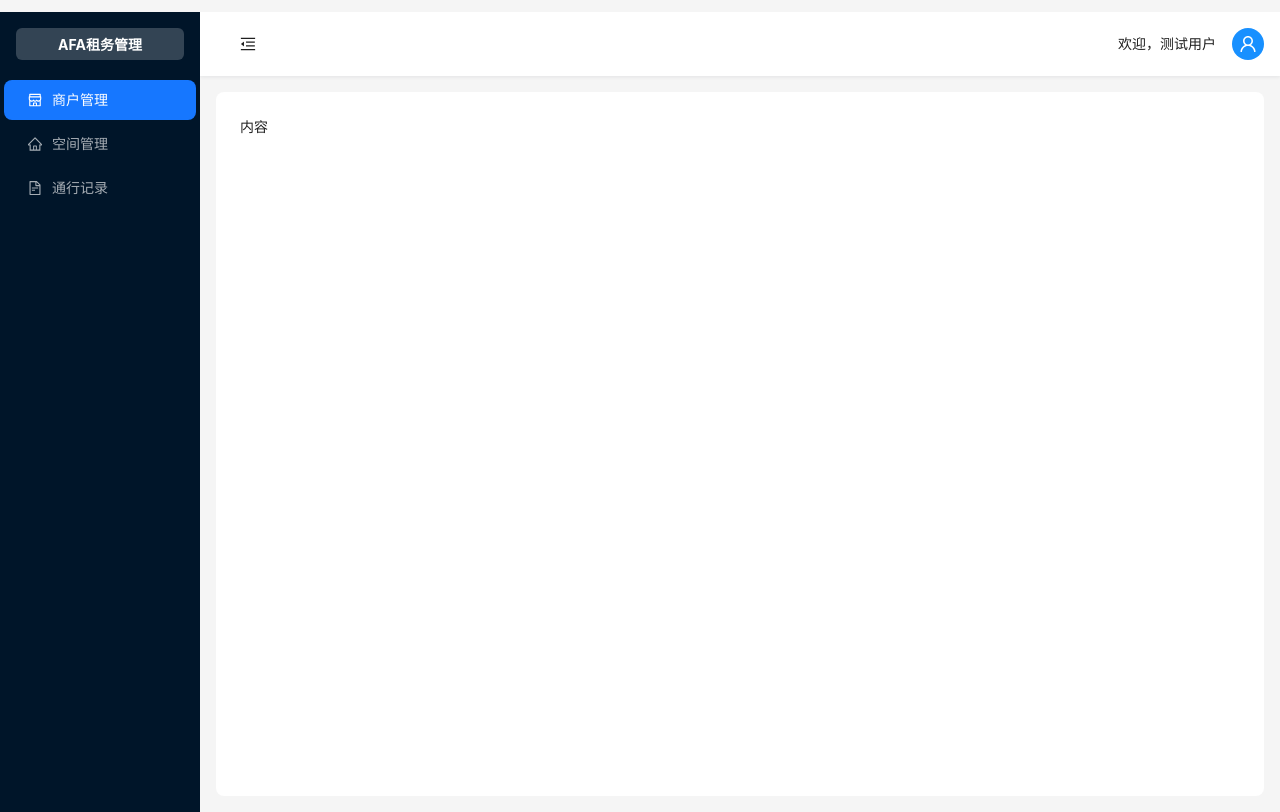
it: DashboardLayout › 侧边栏功能测试 › 应该在收起状态下显示简化的logo
expect the text "AFA租务管理" is shown: met, box left=16, top=28, right=184, bottom=60
Click the button: (248, 44) left=216, top=12, right=280, bottom=76
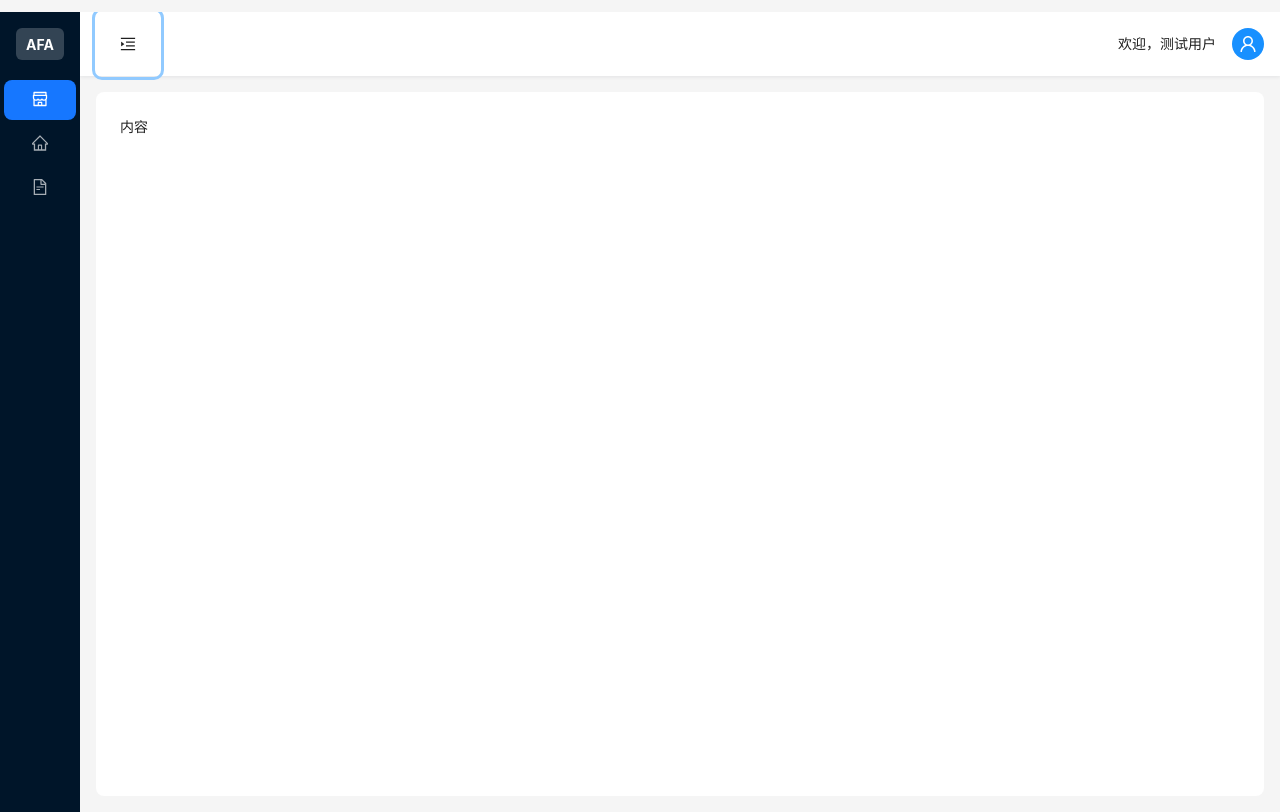
expect the text "AFA" is shown: met, box left=16, top=28, right=64, bottom=60
expect the text "AFA租务管理" is gone: met
